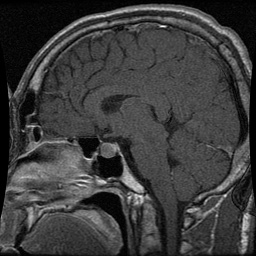pituitary: (99, 141, 118, 158)
